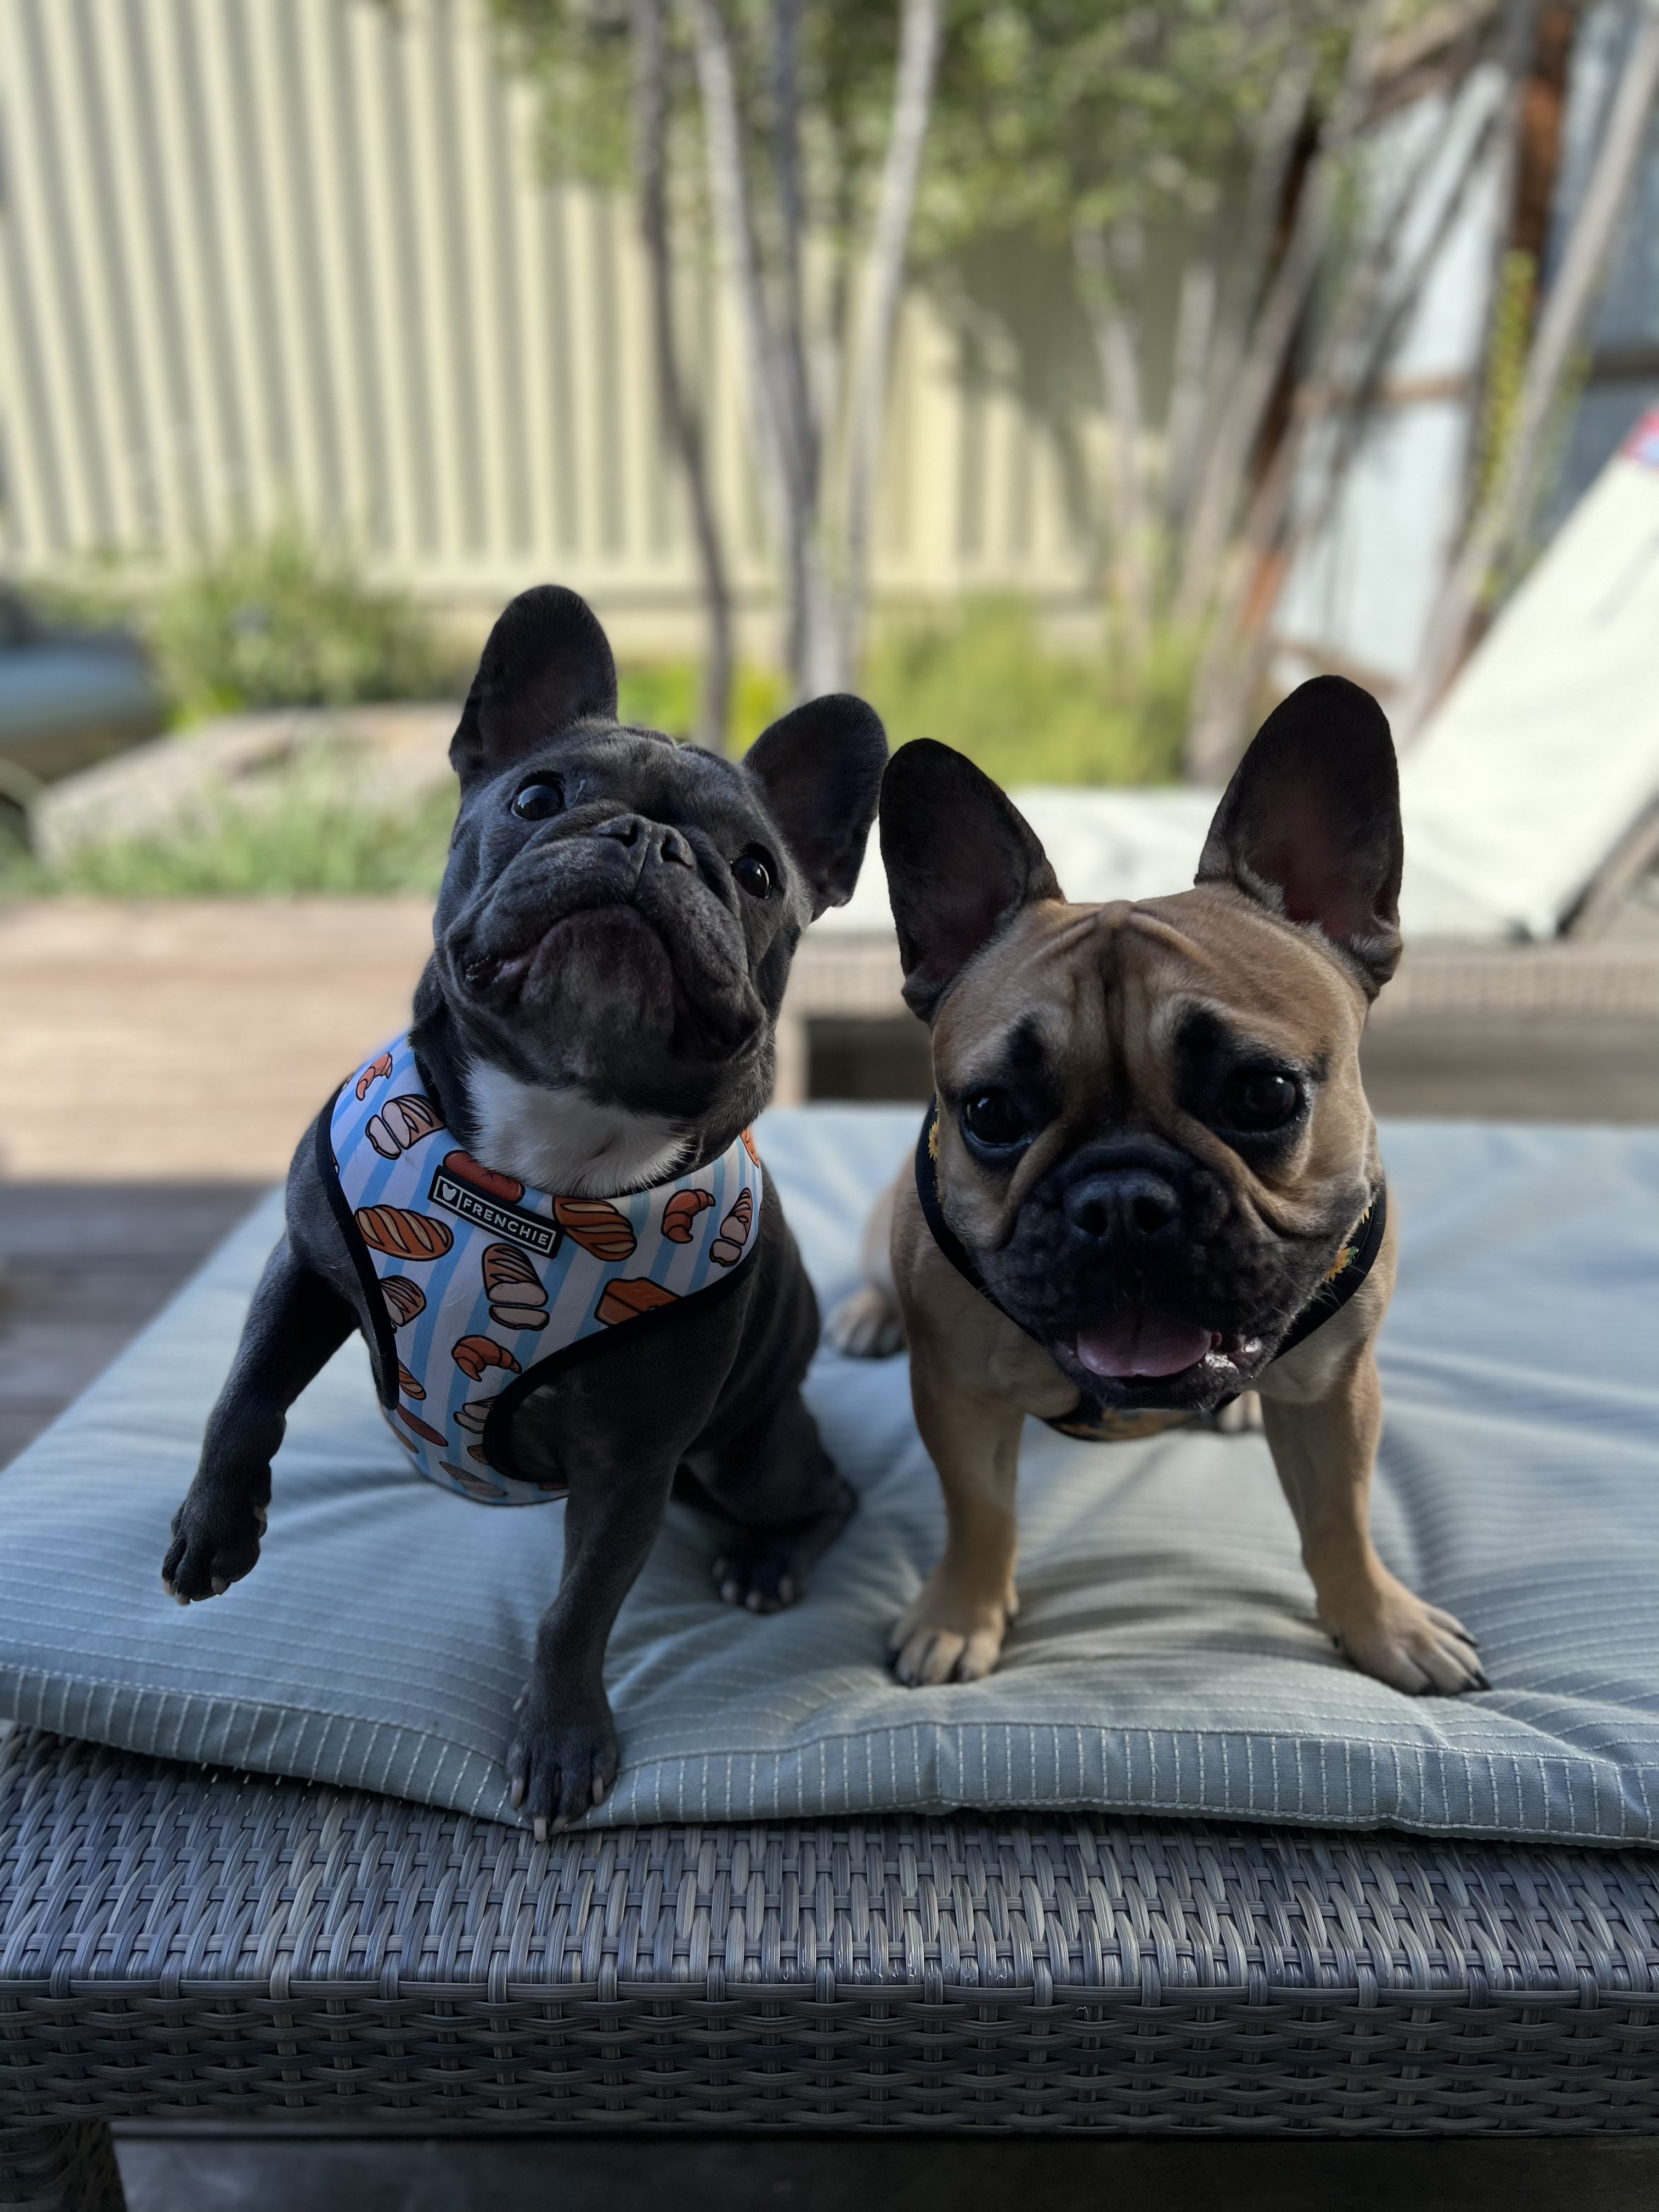lucy: (150, 580, 887, 1850)
